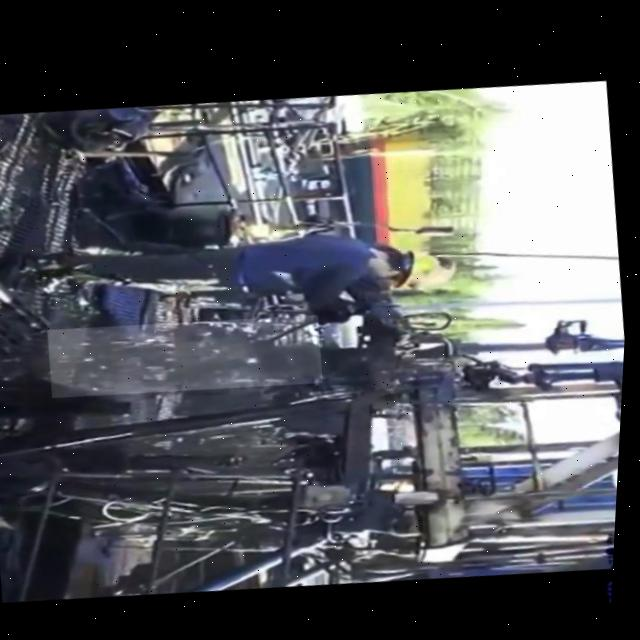spillage: (50, 310, 325, 397)
